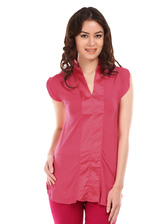clothoes: (34, 64, 128, 205)
